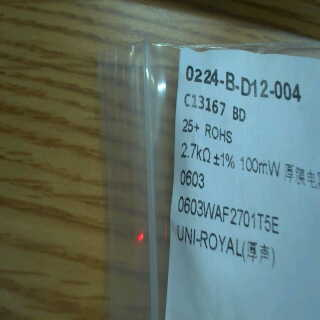2.7kR: (178, 138, 213, 164)
